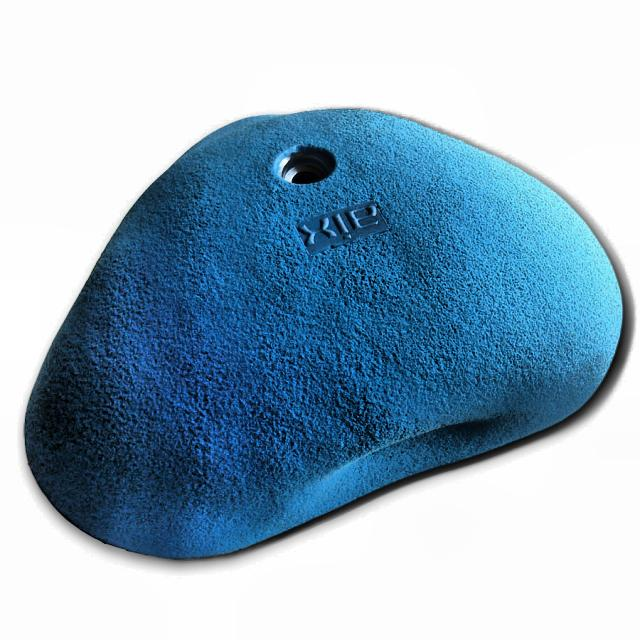Hold: (13, 89, 640, 579)
